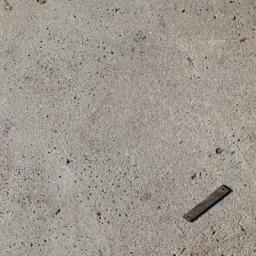FOD: (183, 179, 234, 226)
